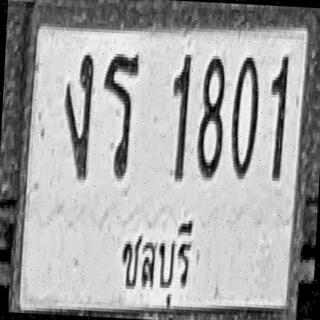A07: (61, 51, 94, 180)
A35: (99, 50, 140, 179)
N00: (229, 54, 260, 180)
N01: (266, 52, 289, 180), (169, 52, 191, 180)
N08: (196, 54, 226, 180)
P13: (118, 210, 198, 320)
